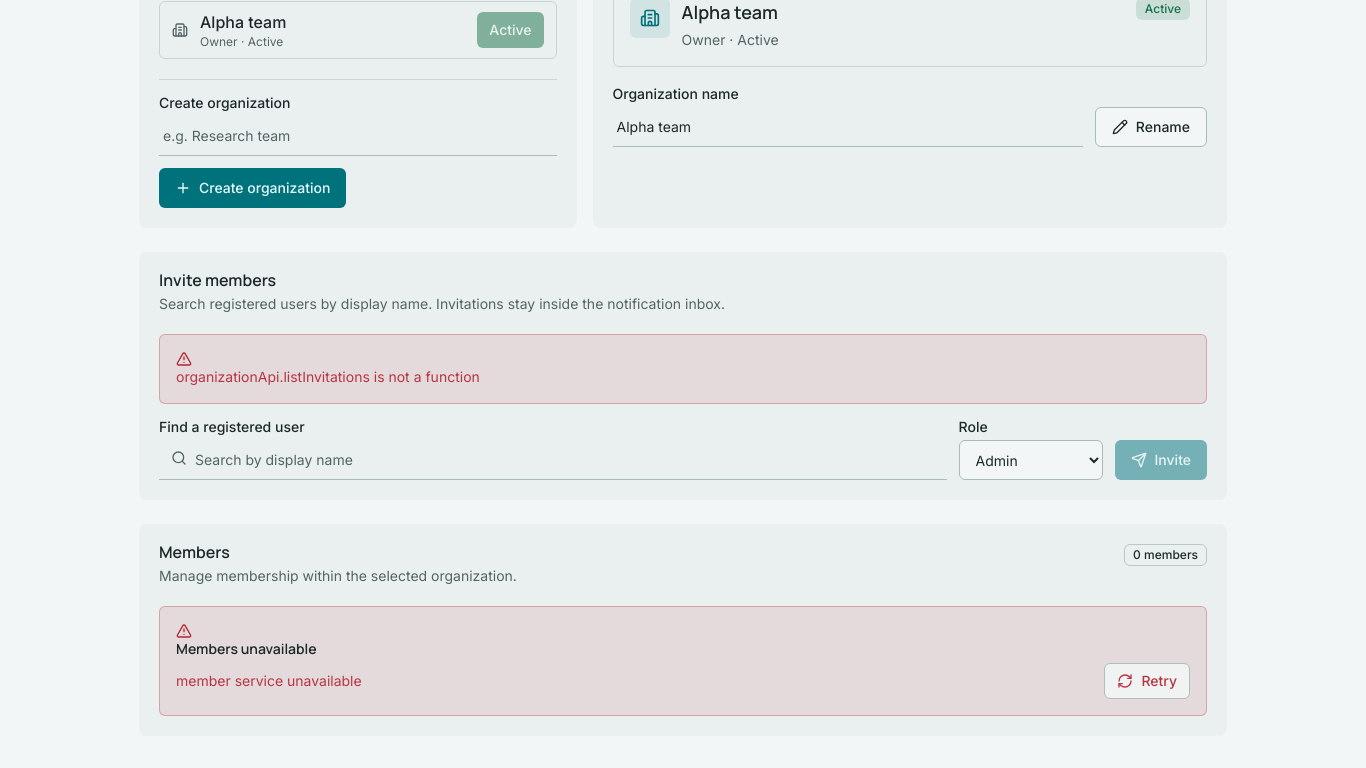
Test: organization settings page › shows a recoverable member-loading error and retries the route
The width and height of the screenshot is (1366, 768).
(page scrolled)
Expected: the heading "Members unavailable" is shown, [176,639,317,658]
Click the button "Retry" at x=1147, y=681, box [1104,663,1190,699]
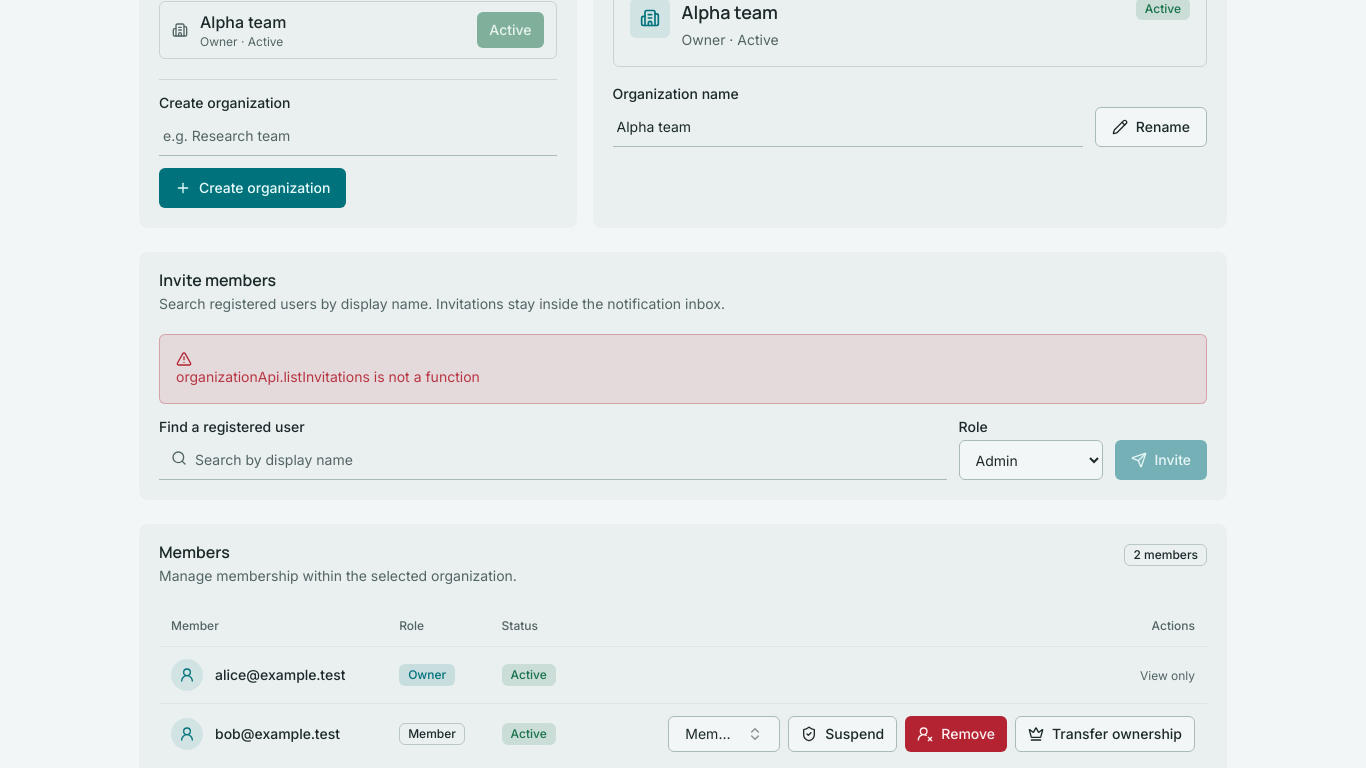
Now the text "bob@example.test" is shown, box [215,724,340,744]
